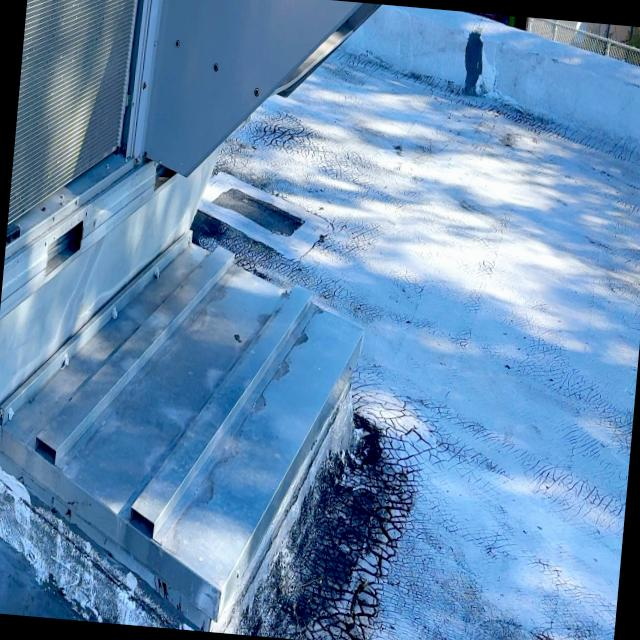RTU: (0, 0, 446, 442)
